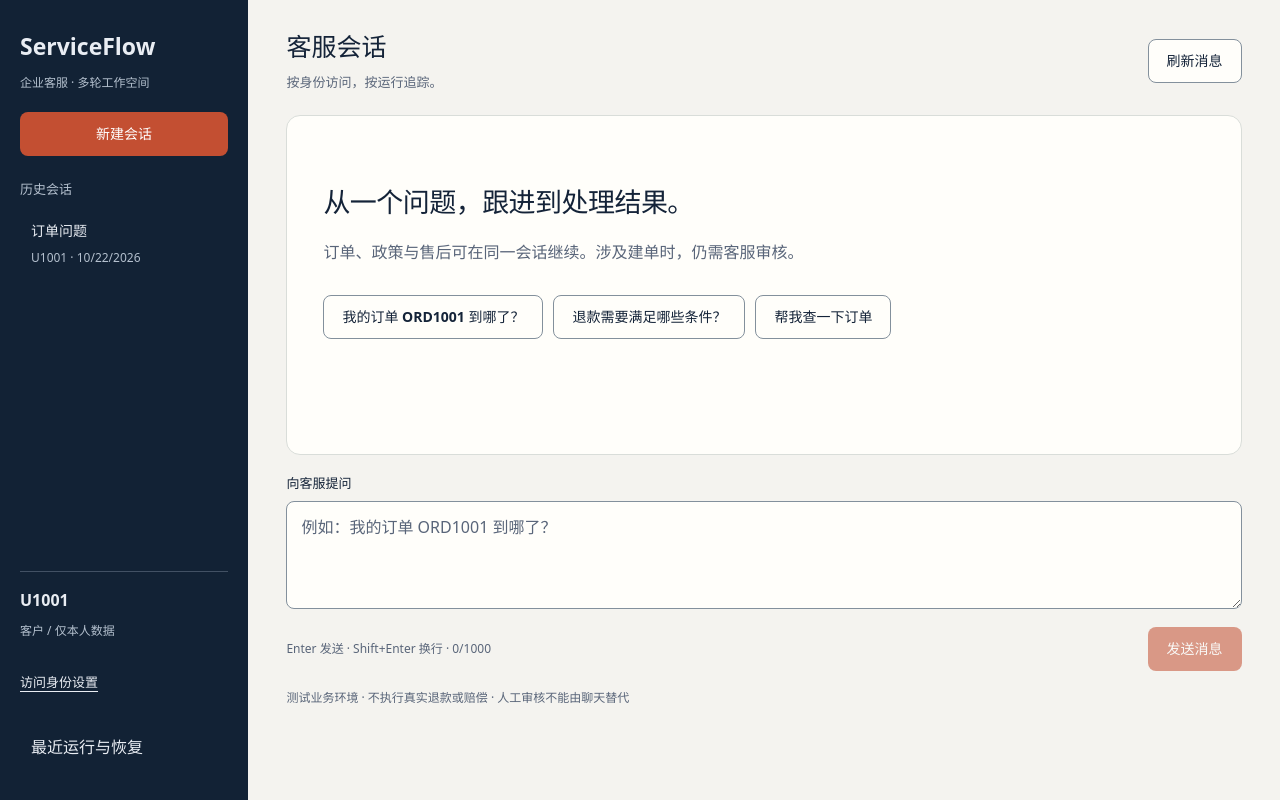
Test: creates and sends continuous chat, restores saved messages and hides customer approvals
Click the button "新建会话".
click(124, 134)  # box [20,112,228,156]
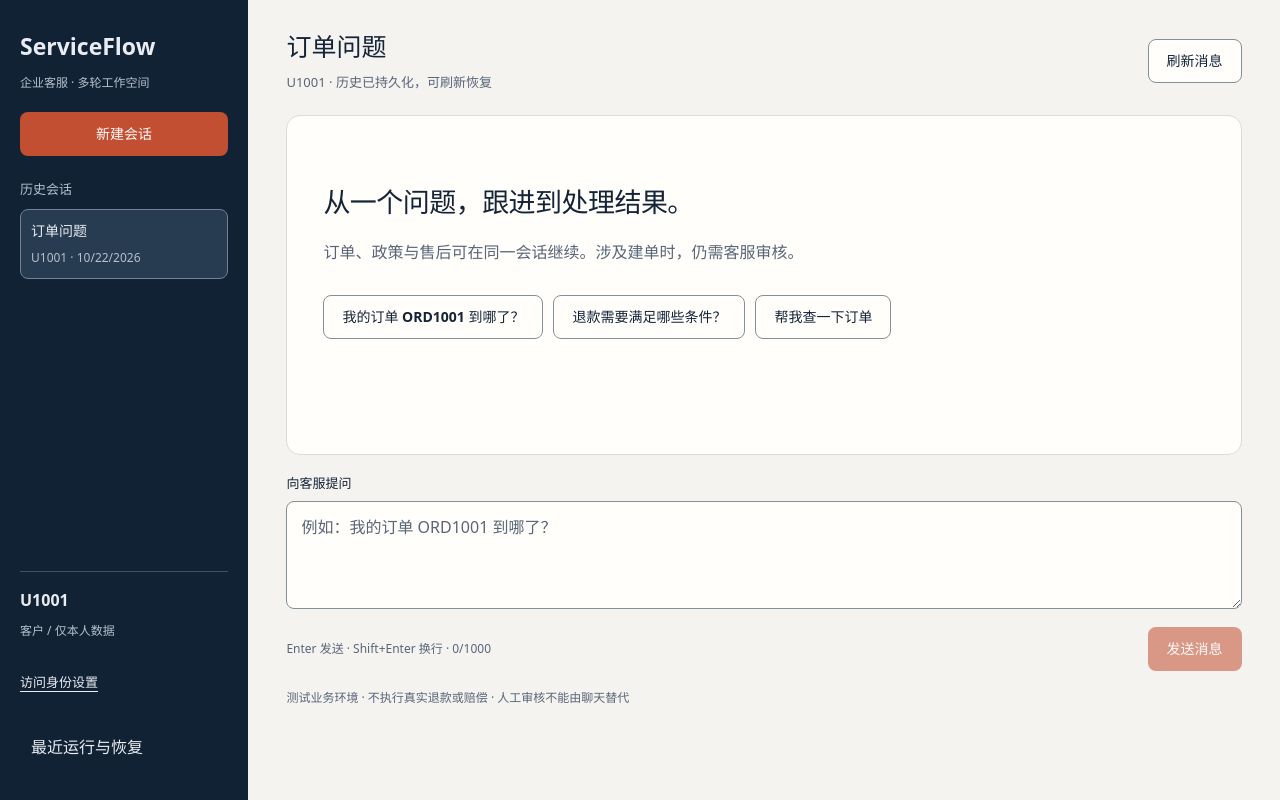
Type "订单 ORD1001" into the text box with id "chat-input".
click(764, 555); type("订单 ORD1001")  # box [286,501,1242,609]
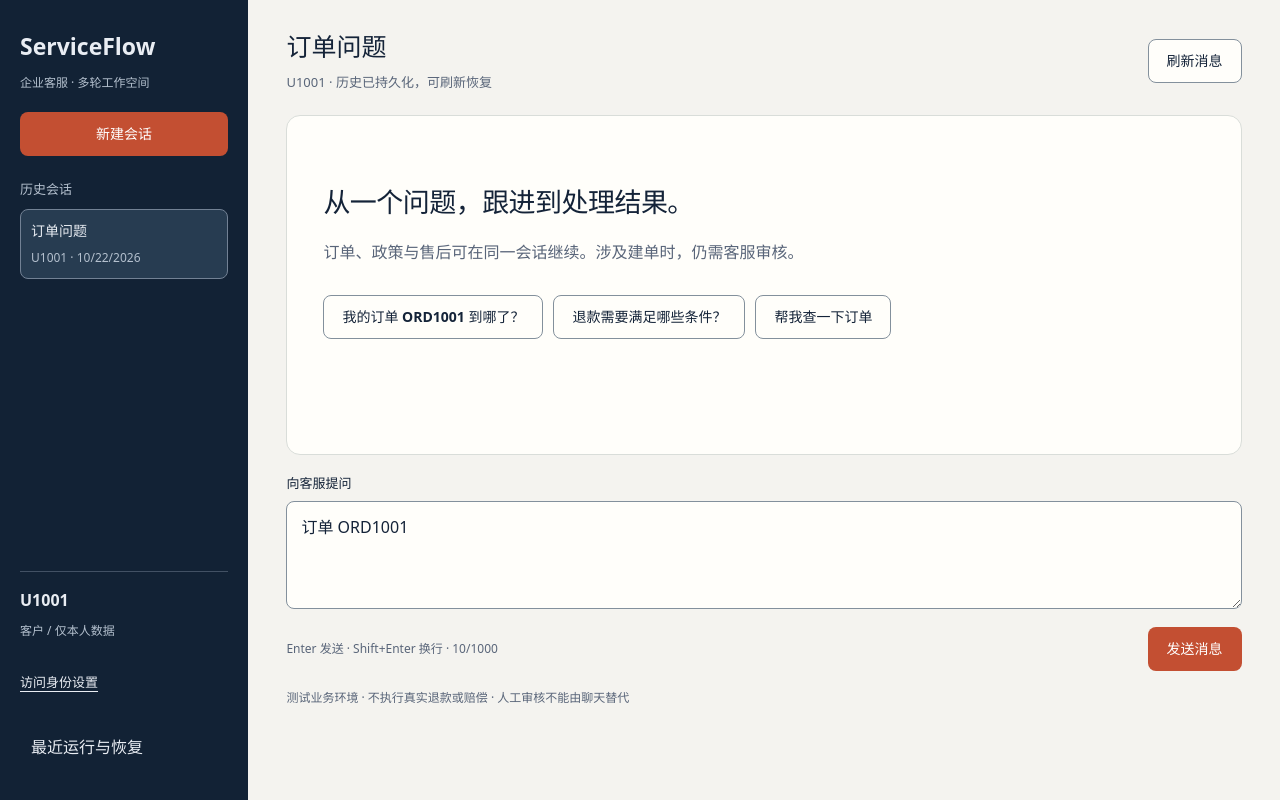
Press Enter in the text box with id "chat-input", box [286,501,1242,609]
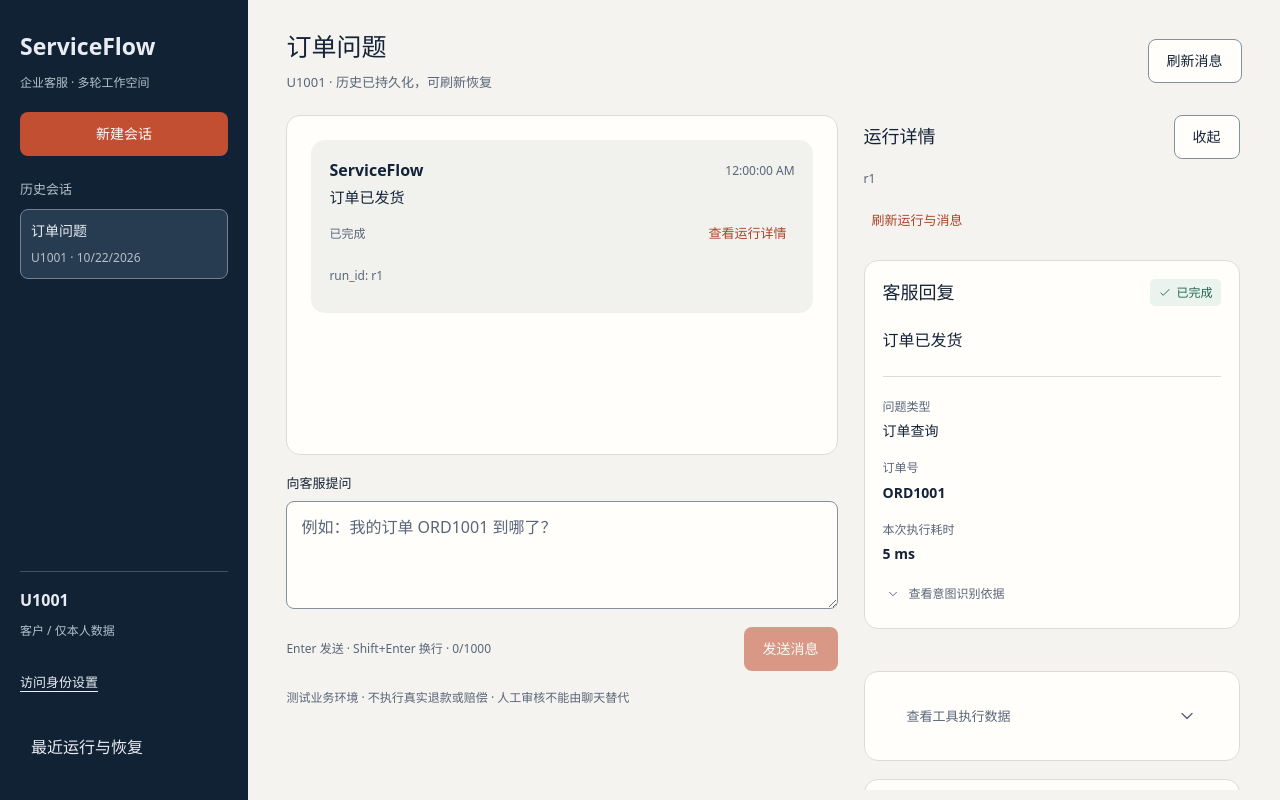
Check: the text "订单已发货" is shown, box [329,187,404,207]
